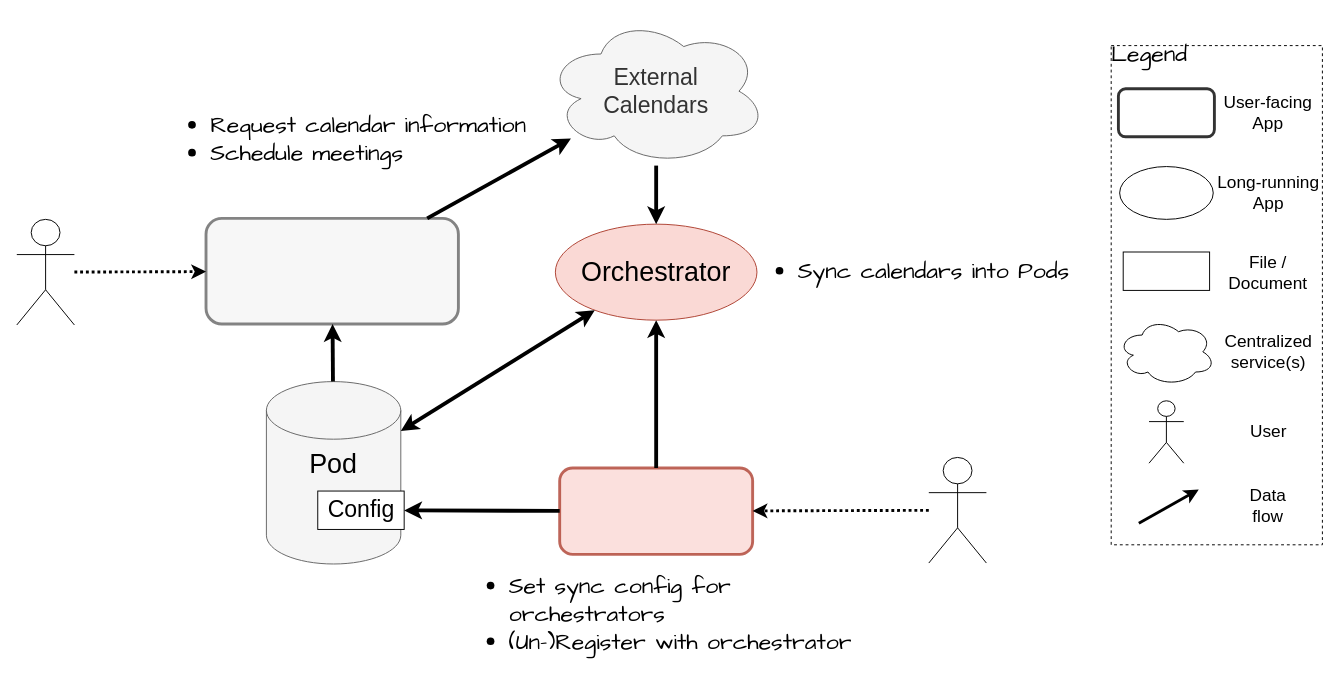
The diagram is 1340 pixels wide and 695 high, and some of its shapes have lost their labels. Here are the shapes that lost their labels. From the top down, the centre of each, then its label:
At (331,270): "Solid Calendar App (KNoodle)".
At (656,510): "Orchestrator Configurer".
